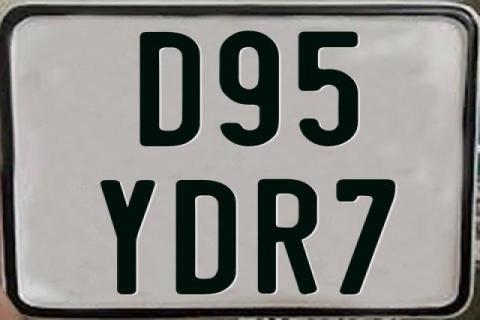0: (217, 31, 279, 147), (334, 179, 396, 295), (295, 31, 357, 146)
D: (176, 180, 238, 296), (140, 31, 202, 145)
R: (256, 178, 317, 298)
Y: (100, 178, 158, 294)
